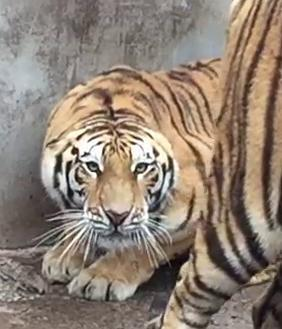tiger: (42, 0, 281, 328)
